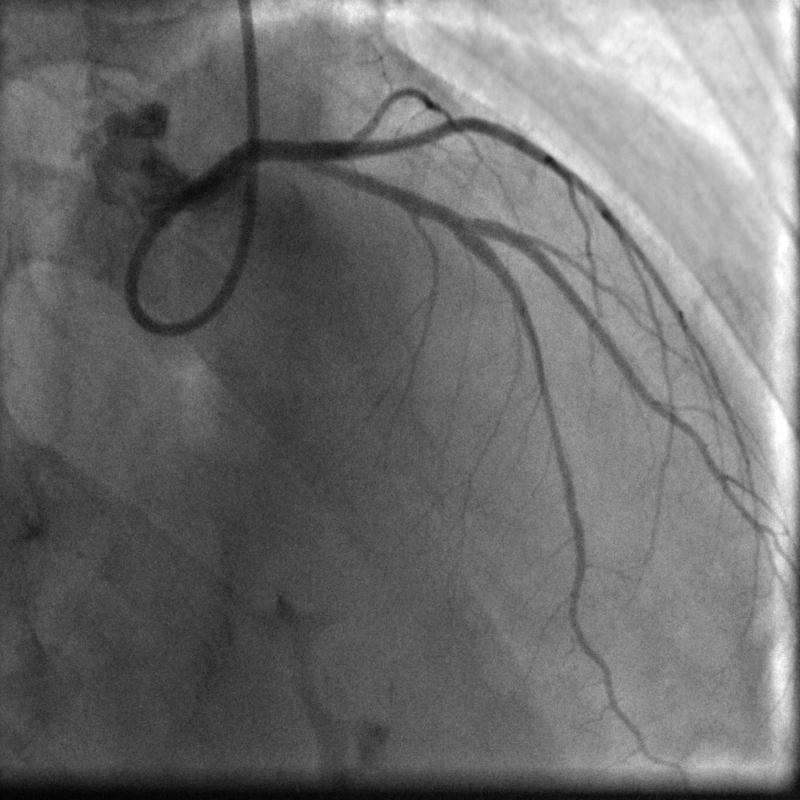Stenosis: (435, 201, 465, 236)
